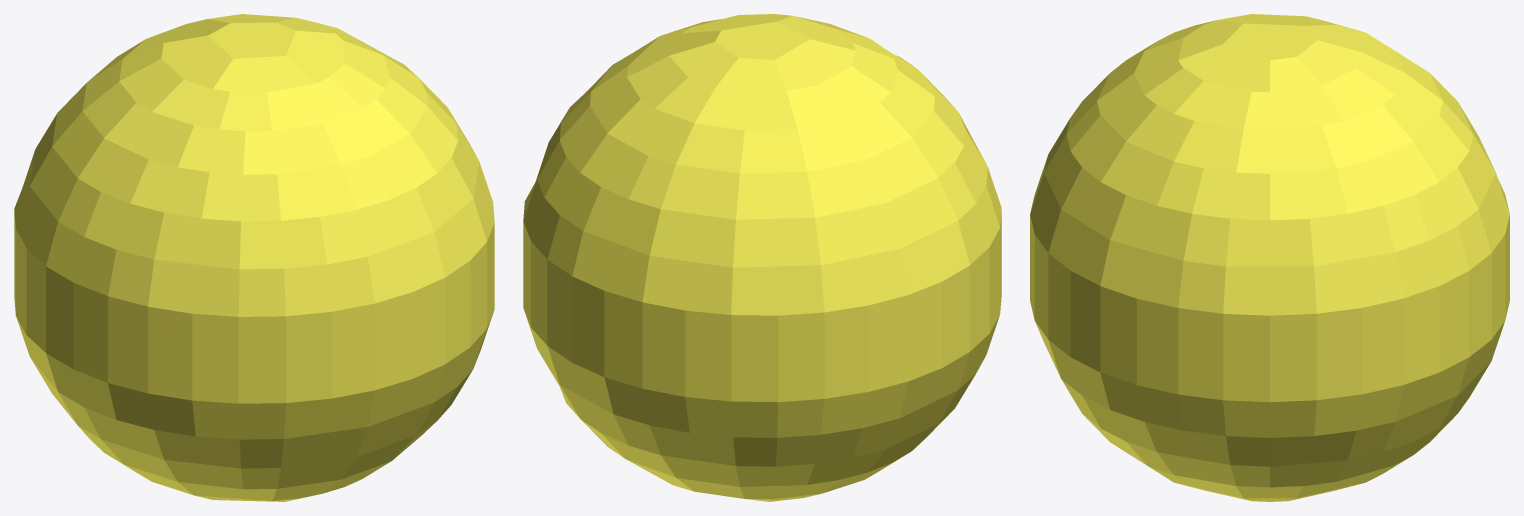
File: Legendary.fbx
3 renders of one model, left to right at view 1: azimuth 30°, elevation 25°; view 2: azimuth 150°, elevation 25°; view 3: azimuth 270°, elevation 25°, orthographic.
Parts seen in each view (by area): view 1: Sphere; view 2: Sphere; view 3: Sphere.
Boxes of the visible parts, x1,y1,x2,y2 form: Sphere: (14,14,494,501); Sphere: (523,14,1001,501); Sphere: (1030,14,1509,501).
Size of the model in its own units: 117 by 117 by 117.
